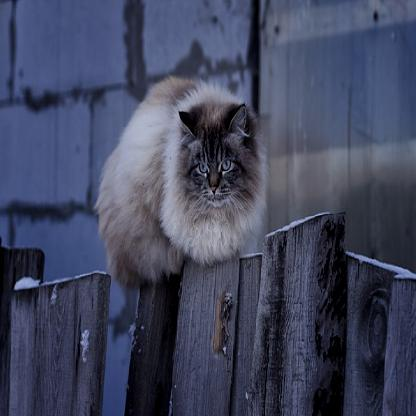cat: (94, 75, 261, 289)
